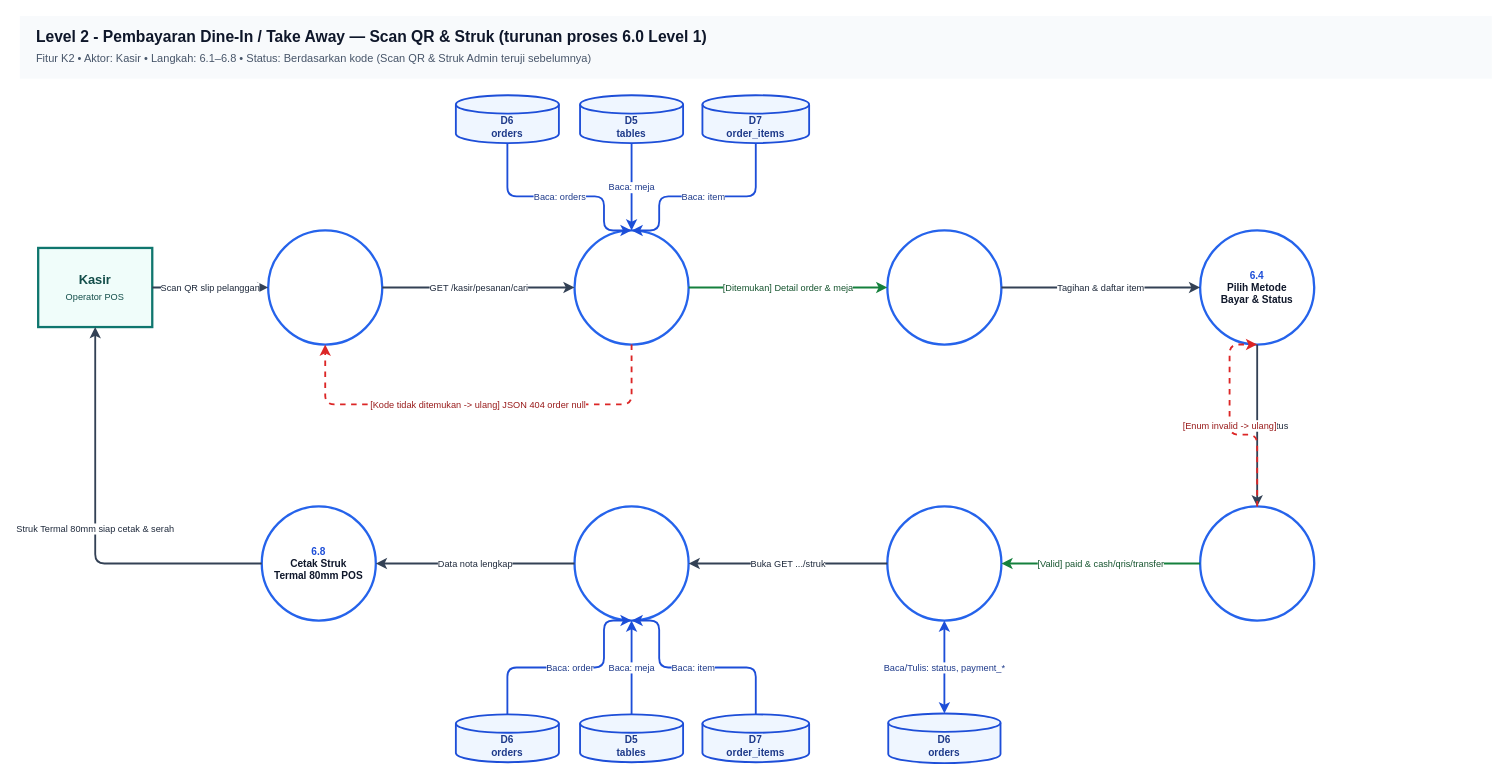
This 1507x779 diagram has some shape labels left out. The shapes that lost their labels are listed below. From the top down, each one's box as (x1, y1, x2, y2) in pixels, then its label:
(267, 229, 383, 345): 6.1 Scan QR / Input Kode Slip
(573, 229, 689, 345): 6.2 Ekstrak Kode & Cari Order
(886, 229, 1002, 345): 6.3 Tampilkan Detail & Tagihan
(573, 505, 689, 621): 6.7 Muat Data Order untuk Struk
(886, 505, 1002, 621): 6.6 Perbarui Status Bayar (Paid)
(1199, 505, 1315, 621): 6.5 Validasi Status & Pembayaran
